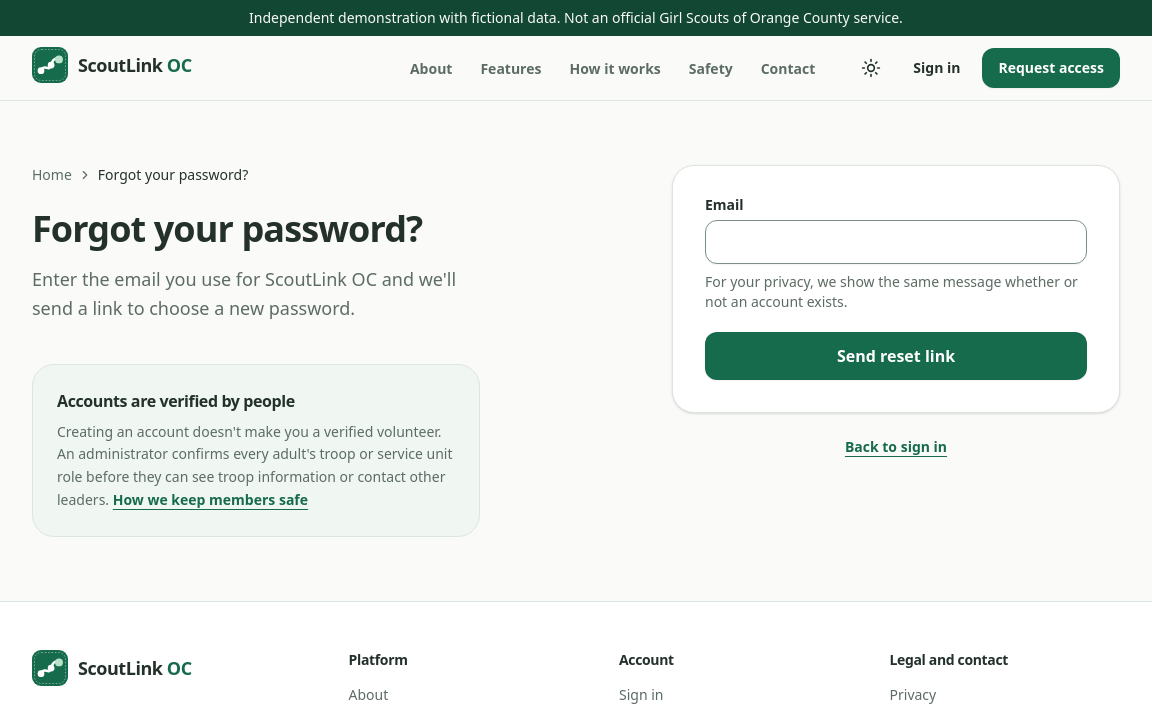
Test: sign in and sign up › sends the same reset message whether or not the account exists
The width and height of the screenshot is (1152, 709).
Type "nobody@example.org" into the field labelled "Email" at (896, 242), box [705,220,1087,264]
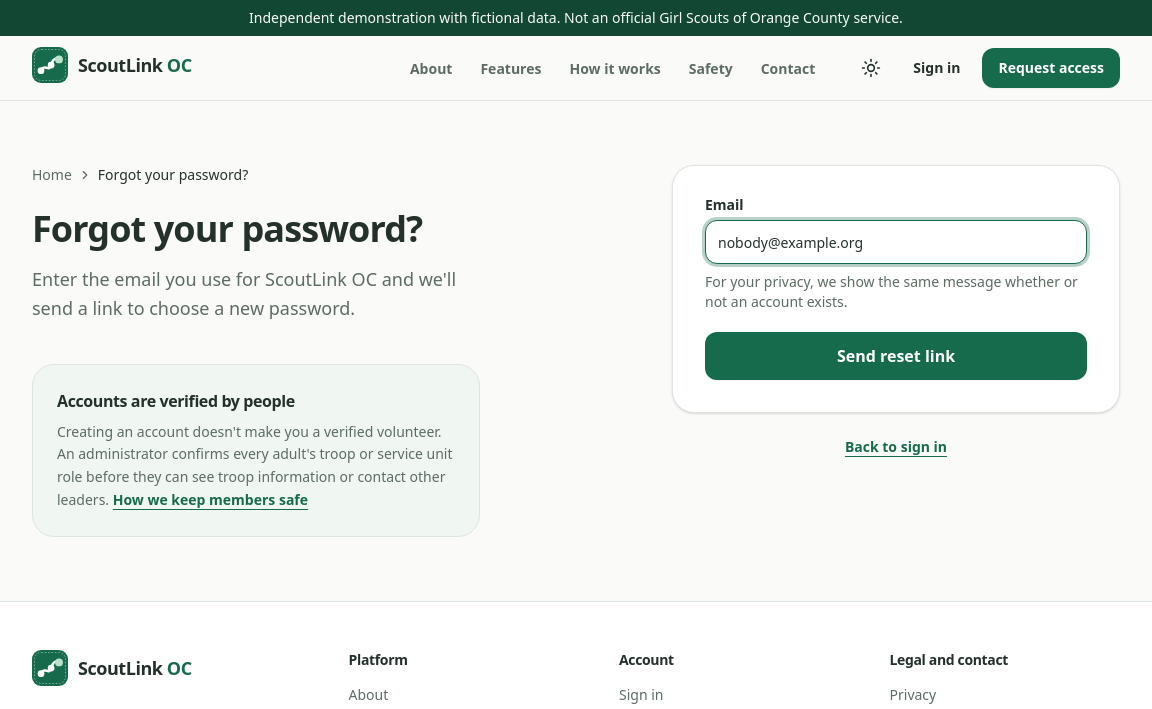
Click the button "Send reset link" at (896, 356), box [705,332,1087,380]
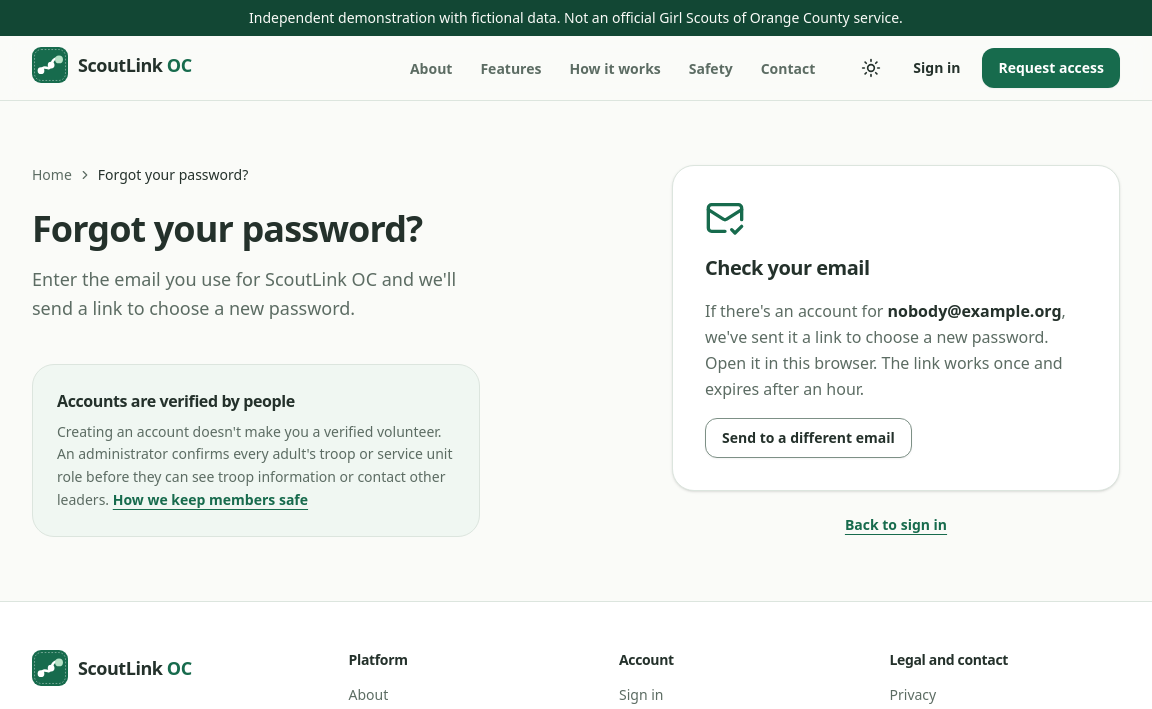
Check: the heading "Check your email" is shown, box [705,254,870,281]
